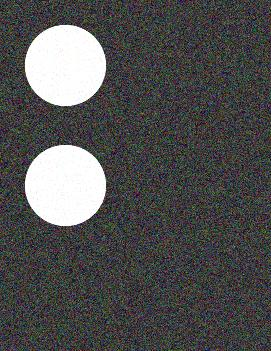B: (19, 19, 253, 332)
